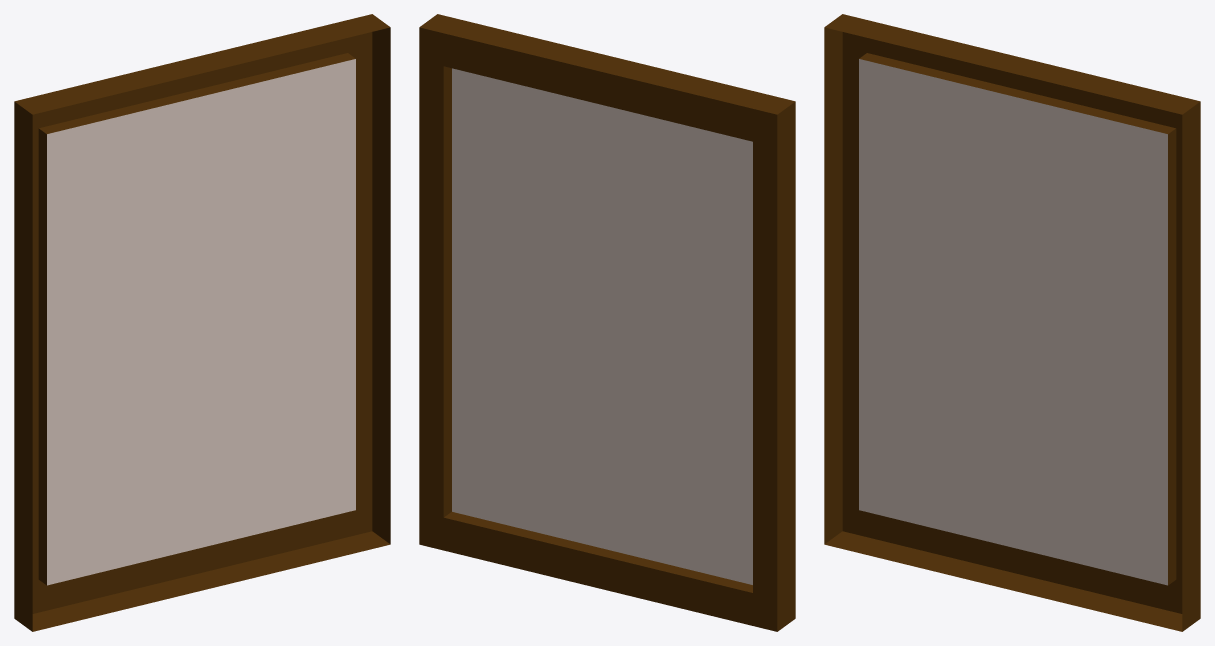
Rendered from interactible_portrait.fbx.
3 renders of one model, left to right at view 1: azimuth 30°, elevation 25°; view 2: azimuth 150°, elevation 25°; view 3: azimuth 330°, elevation 25°, orthographic.
Visible parts, largest first — view 1: interactible_portrait; view 2: interactible_portrait; view 3: interactible_portrait.
Boxes of the visible parts, box(x1,y1,x2,y2) form: interactible_portrait: box(14, 14, 390, 631); interactible_portrait: box(419, 14, 795, 631); interactible_portrait: box(824, 14, 1200, 631).
Size of the model in its own units: 0.442 by 0.61 by 0.0391.
